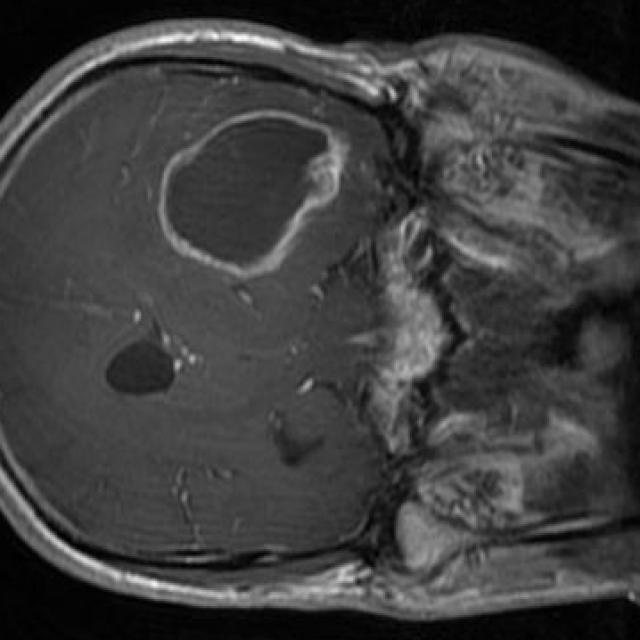glioma: (159, 111, 349, 280)
